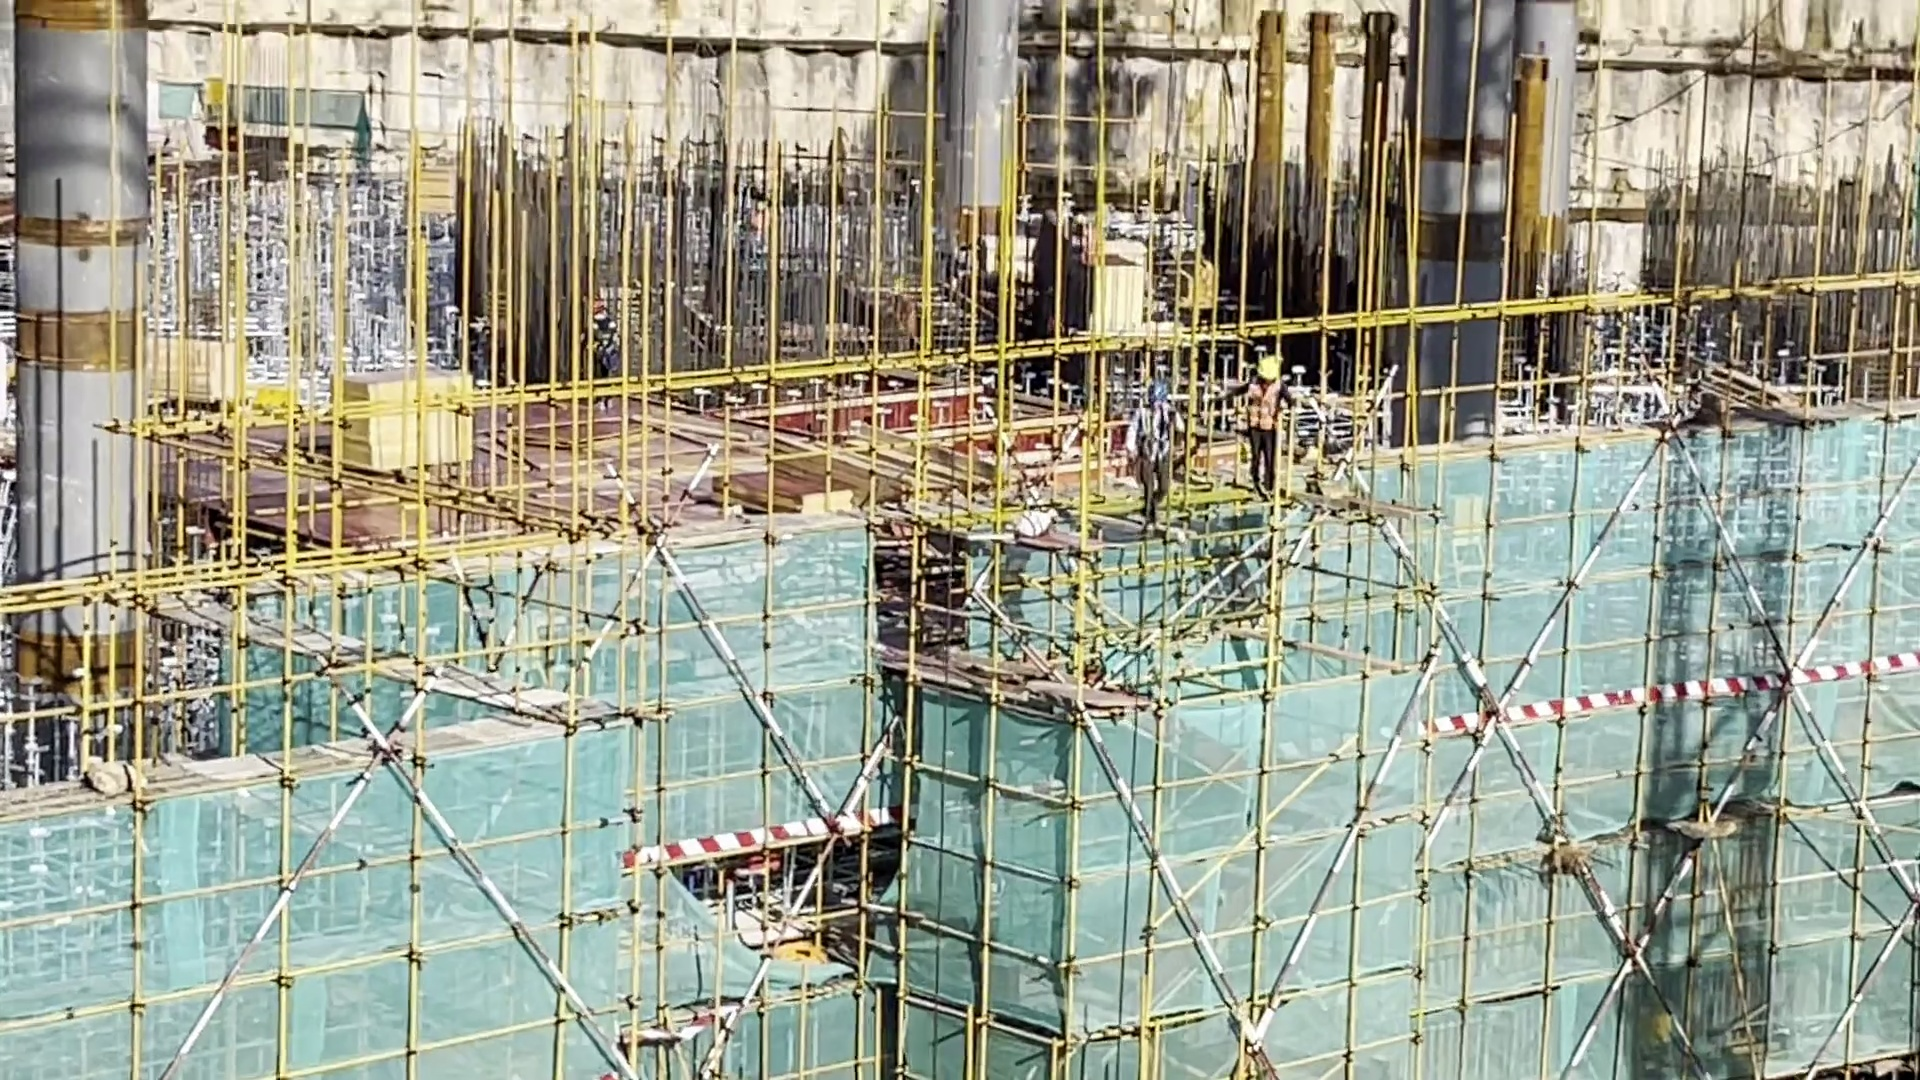ebox: (1448, 491, 1490, 583), (202, 78, 227, 120)
helmet: (1144, 380, 1168, 408), (1257, 353, 1278, 384)
person: (1229, 346, 1297, 490), (1123, 378, 1185, 534)
vest: (1123, 402, 1169, 456), (1245, 382, 1283, 437)
